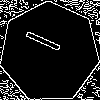I: (24, 27, 71, 59)
